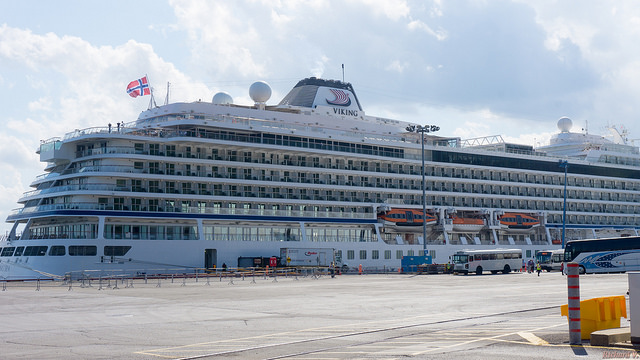cruise_ship: (1, 32, 637, 271)
